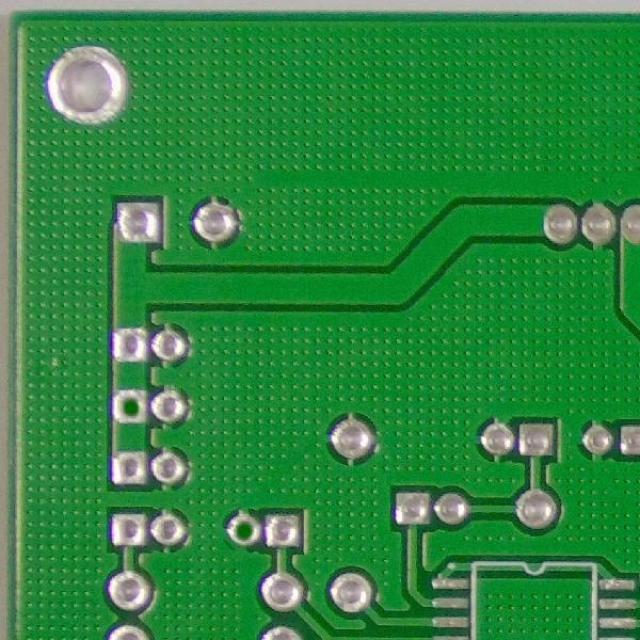Missing_Hole: (112, 387, 148, 427), (222, 511, 260, 548)
